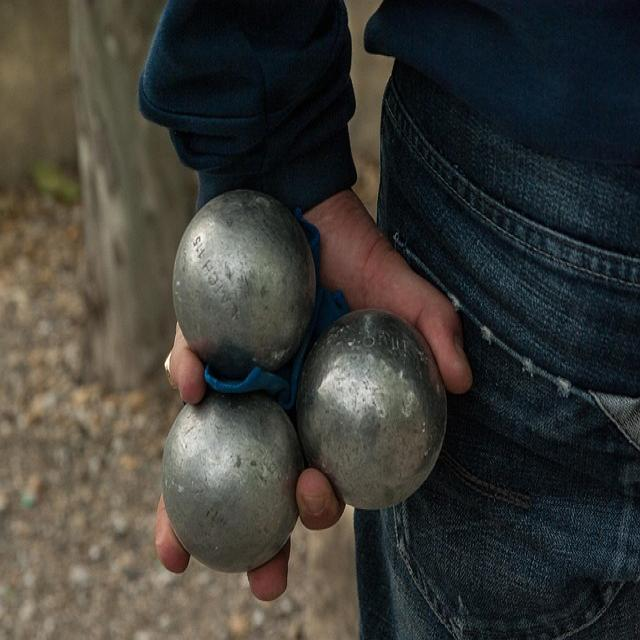petanque: (293, 299, 462, 525), (151, 383, 315, 587), (171, 184, 317, 384)
